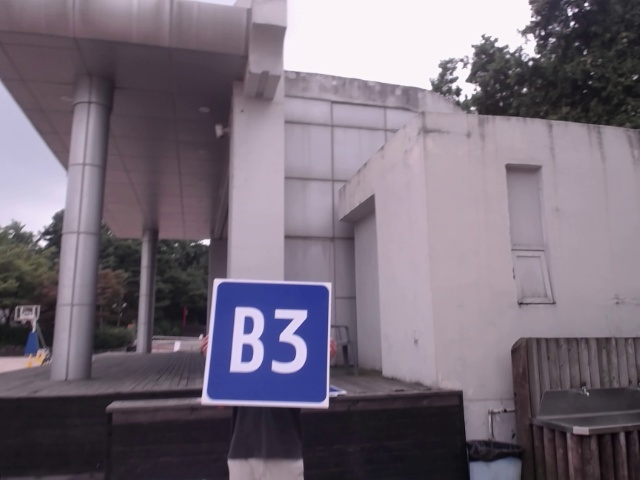delivery_b3: (201, 282, 330, 403)
